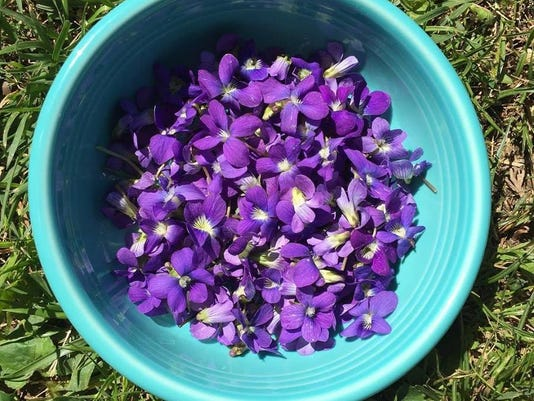violet: (97, 37, 416, 354)
